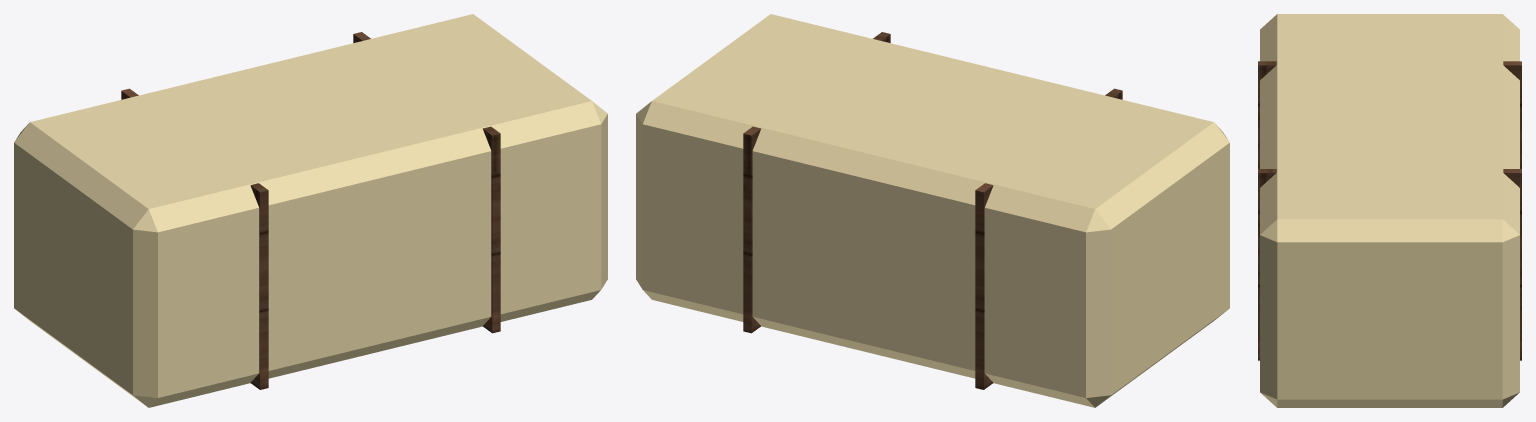
File: bale.glb
The picture shows the model from 3 angles, left to right: view 1: azimuth 30°, elevation 25°; view 2: azimuth 150°, elevation 25°; view 3: azimuth 270°, elevation 25°; orthographic projection. The views are drawn at different scales.
Parts seen in each view (by area): view 1: bale_hay, bale_dkwood; view 2: bale_hay, bale_dkwood; view 3: bale_hay, bale_dkwood.
Boxes of the visible parts, x1,y1,x2,y2 form: bale_hay: (14, 14, 607, 407); bale_dkwood: (121, 32, 500, 389); bale_hay: (636, 14, 1229, 407); bale_dkwood: (743, 32, 1122, 389); bale_hay: (1260, 14, 1519, 407); bale_dkwood: (1258, 61, 1521, 360).
Size of the model in its own units: 0.9 by 0.36 by 0.456.
2 materials, 1 textured.
